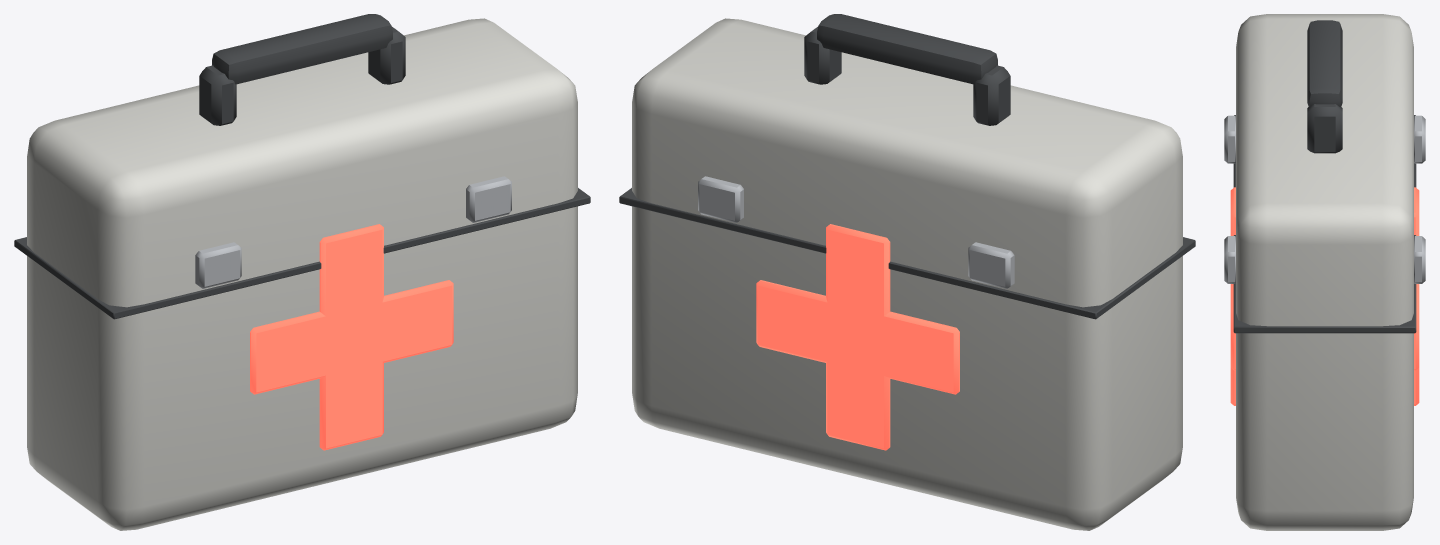
Rendered from pk_health.glb.
3 views of the same model, side by side, from view 1: azimuth 30°, elevation 25°; view 2: azimuth 150°, elevation 25°; view 3: azimuth 270°, elevation 25° (orthographic). The views are drawn at different scales.
Visible parts, largest first — view 1: pk_health; view 2: pk_health; view 3: pk_health.
Part boxes in pixels (<box>): pk_health: <box>14,14,590,530</box>; pk_health: <box>619,14,1195,530</box>; pk_health: <box>1224,14,1425,530</box>.
Size of the model in its own units: 0.565 by 0.47 by 0.226.
